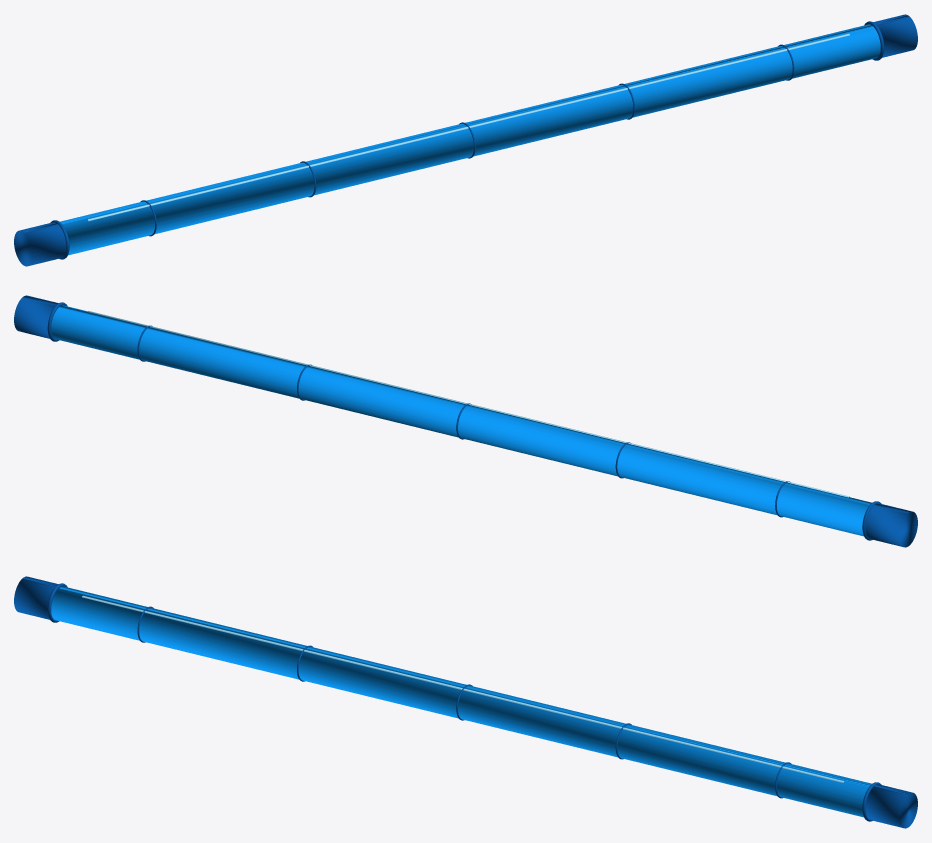
File: Gymnastikstab_3D.glb
3 views of the same model, one above another, from view 1: azimuth 30°, elevation 25°; view 2: azimuth 150°, elevation 25°; view 3: azimuth 330°, elevation 25° (orthographic).
Parts seen in each view (by area): view 1: Gymnastikstab_3D__web_glossy_blue_gymnastics_stick, Gymnastikstab_3D__web_darker_blue_end_cap_rings, Gymnastikstab_3D__web_subtle_blue_highlight_stripe; view 2: Gymnastikstab_3D__web_glossy_blue_gymnastics_stick, Gymnastikstab_3D__web_darker_blue_end_cap_rings, Gymnastikstab_3D__web_subtle_blue_highlight_stripe; view 3: Gymnastikstab_3D__web_glossy_blue_gymnastics_stick, Gymnastikstab_3D__web_darker_blue_end_cap_rings, Gymnastikstab_3D__web_subtle_blue_highlight_stripe.
Part boxes in pixels (left/top/right/bottom): Gymnastikstab_3D__web_glossy_blue_gymnastics_stick: left=60, top=24, right=880, bottom=255; Gymnastikstab_3D__web_darker_blue_end_cap_rings: left=14, top=14, right=917, bottom=266; Gymnastikstab_3D__web_subtle_blue_highlight_stripe: left=87, top=33, right=849, bottom=221; Gymnastikstab_3D__web_glossy_blue_gymnastics_stick: left=51, top=305, right=871, bottom=536; Gymnastikstab_3D__web_darker_blue_end_cap_rings: left=14, top=295, right=917, bottom=547; Gymnastikstab_3D__web_subtle_blue_highlight_stripe: left=87, top=311, right=849, bottom=497; Gymnastikstab_3D__web_glossy_blue_gymnastics_stick: left=51, top=586, right=871, bottom=817; Gymnastikstab_3D__web_darker_blue_end_cap_rings: left=14, top=576, right=917, bottom=828; Gymnastikstab_3D__web_subtle_blue_highlight_stripe: left=82, top=595, right=844, bottom=783.
Size of the model in its own units: 2 by 0.079 by 0.079.
